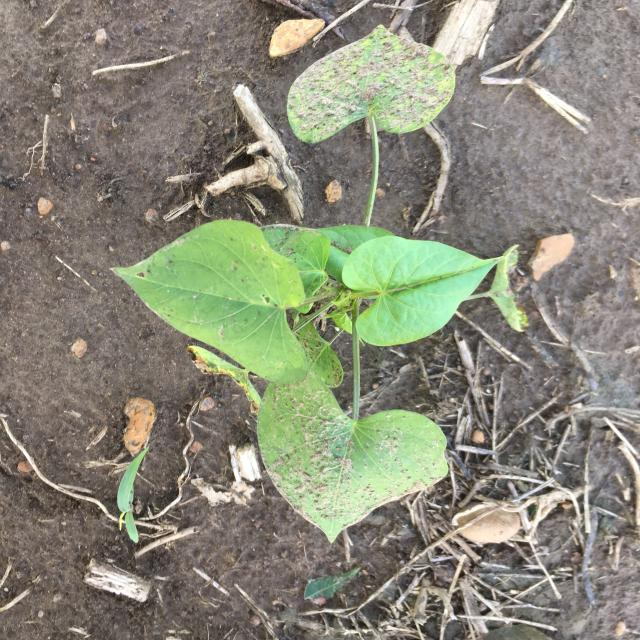MorningGlory: (112, 24, 530, 542)
